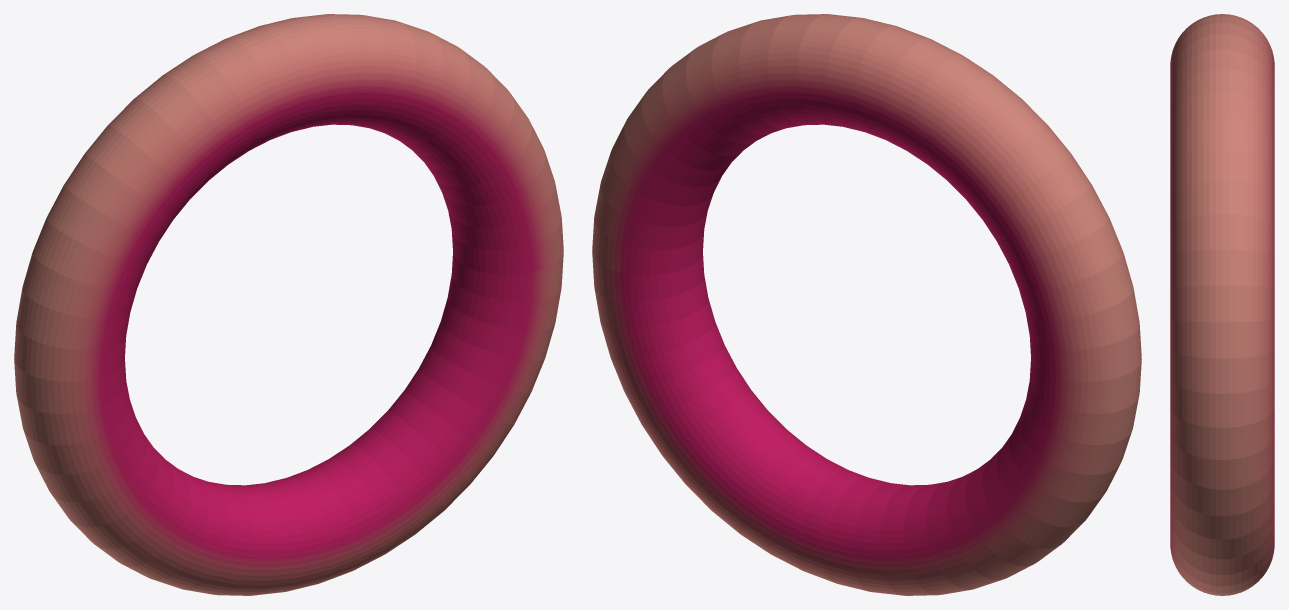
The picture shows the model from 3 angles, left to right: view 1: azimuth 30°, elevation 25°; view 2: azimuth 150°, elevation 25°; view 3: azimuth 270°, elevation 25°; orthographic projection. The views are drawn at different scales.
Visible parts, largest first — view 1: world; view 2: world; view 3: world.
Part boxes in pixels (x1,y1,x2,y2): world: [14, 14, 563, 595]; world: [592, 14, 1141, 595]; world: [1170, 14, 1274, 595].
Bounding box in the file's own units: 34.93 × 34.86 × 6.25.
